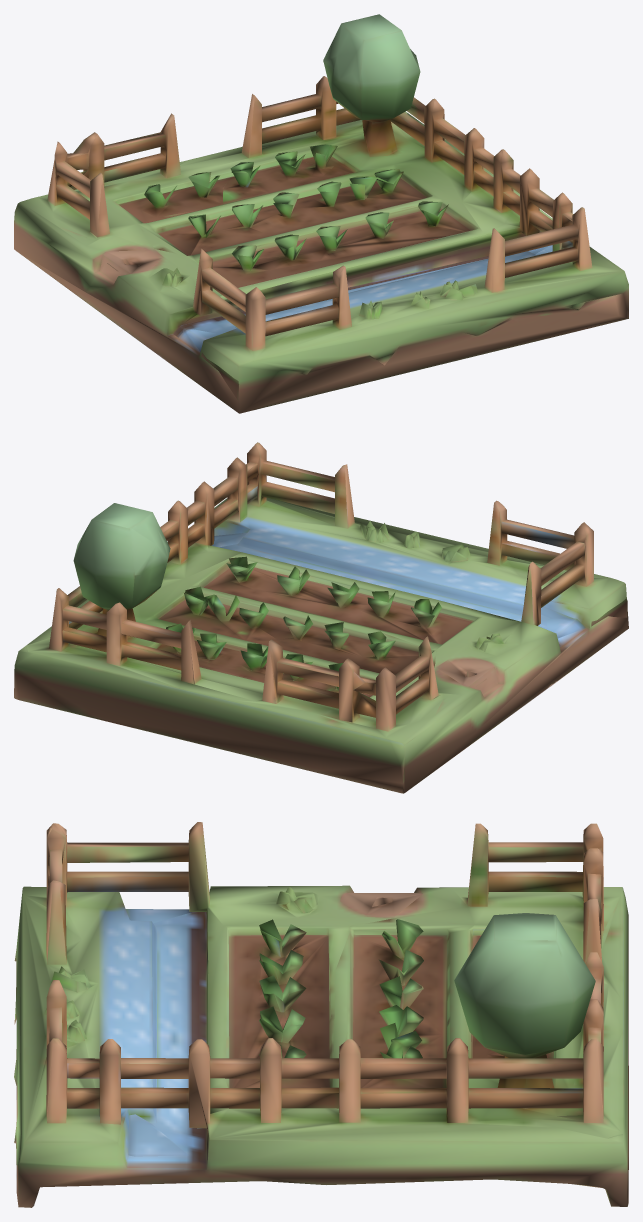
Rendered from tarla.glb.
3 renders of one model, top to bottom at view 1: azimuth 30°, elevation 25°; view 2: azimuth 150°, elevation 25°; view 3: azimuth 270°, elevation 25°, orthographic. The views are drawn at different scales.
Visible parts, largest first — view 1: node_0; view 2: node_0; view 3: node_0.
Boxes of the visible parts, x1,y1,x2,y2 form: node_0: [14, 14, 628, 413]; node_0: [14, 442, 628, 793]; node_0: [14, 822, 628, 1207].
Bounding box in the file's own units: 0.8195 × 0.344 × 0.8197.
Materials: 1 (1 with a texture image).
